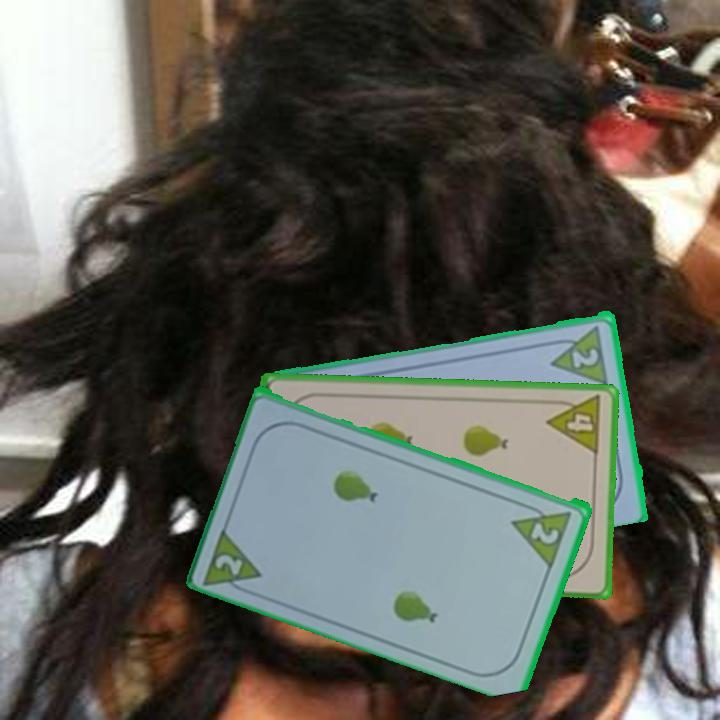2p: (509, 497, 576, 568), (211, 550, 247, 578), (569, 344, 602, 371)
4p: (544, 392, 605, 457)
